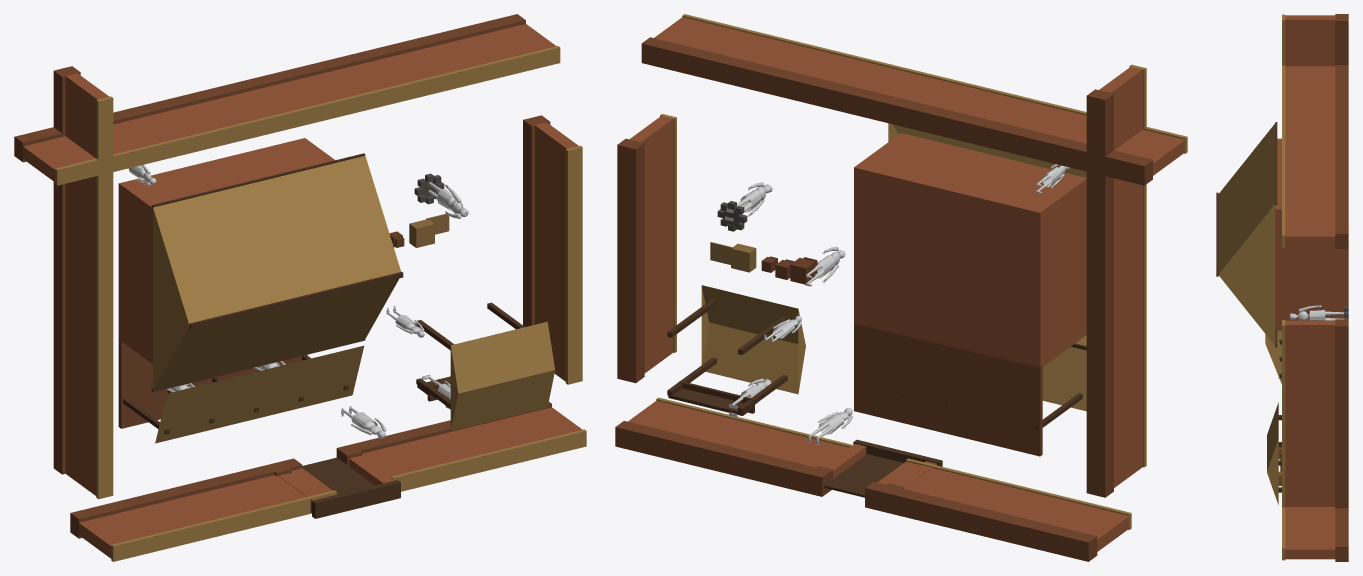
The model's file is CH01_POPULATED_HIGH_8.obj.
3 views of the same model, side by side, from view 1: azimuth 30°, elevation 25°; view 2: azimuth 150°, elevation 25°; view 3: azimuth 270°, elevation 25° (orthographic). The views are drawn at different scales.
Bounding box in the file's own units: 14.2 × 11.95 × 3.96.
